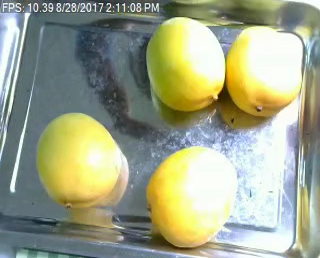Mango: (147, 146, 237, 247), (37, 114, 119, 209), (147, 17, 224, 107), (226, 27, 302, 115)
